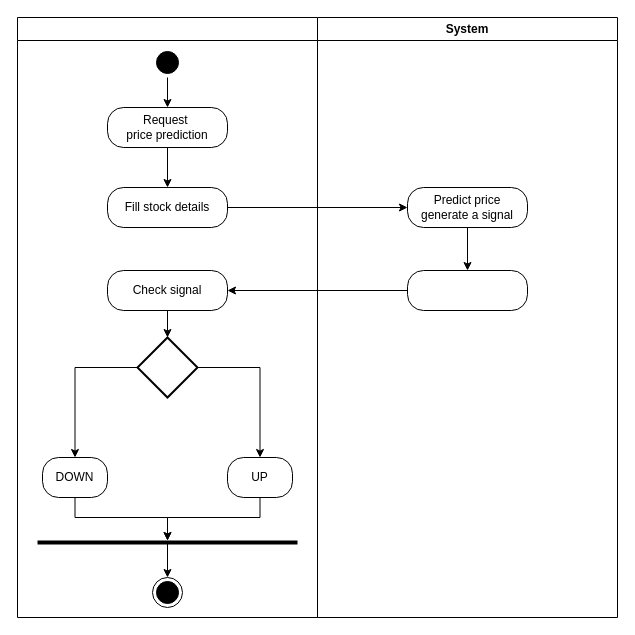
Some shapes in this 635 by 635 pixel diagram are drawn without their labels. Here are the shapes that lost their labels. From the top down, the box of each, then its label:
(406, 270, 528, 310): Send results
(16, 16, 318, 618): Bot
(136, 336, 198, 398): Signal?
